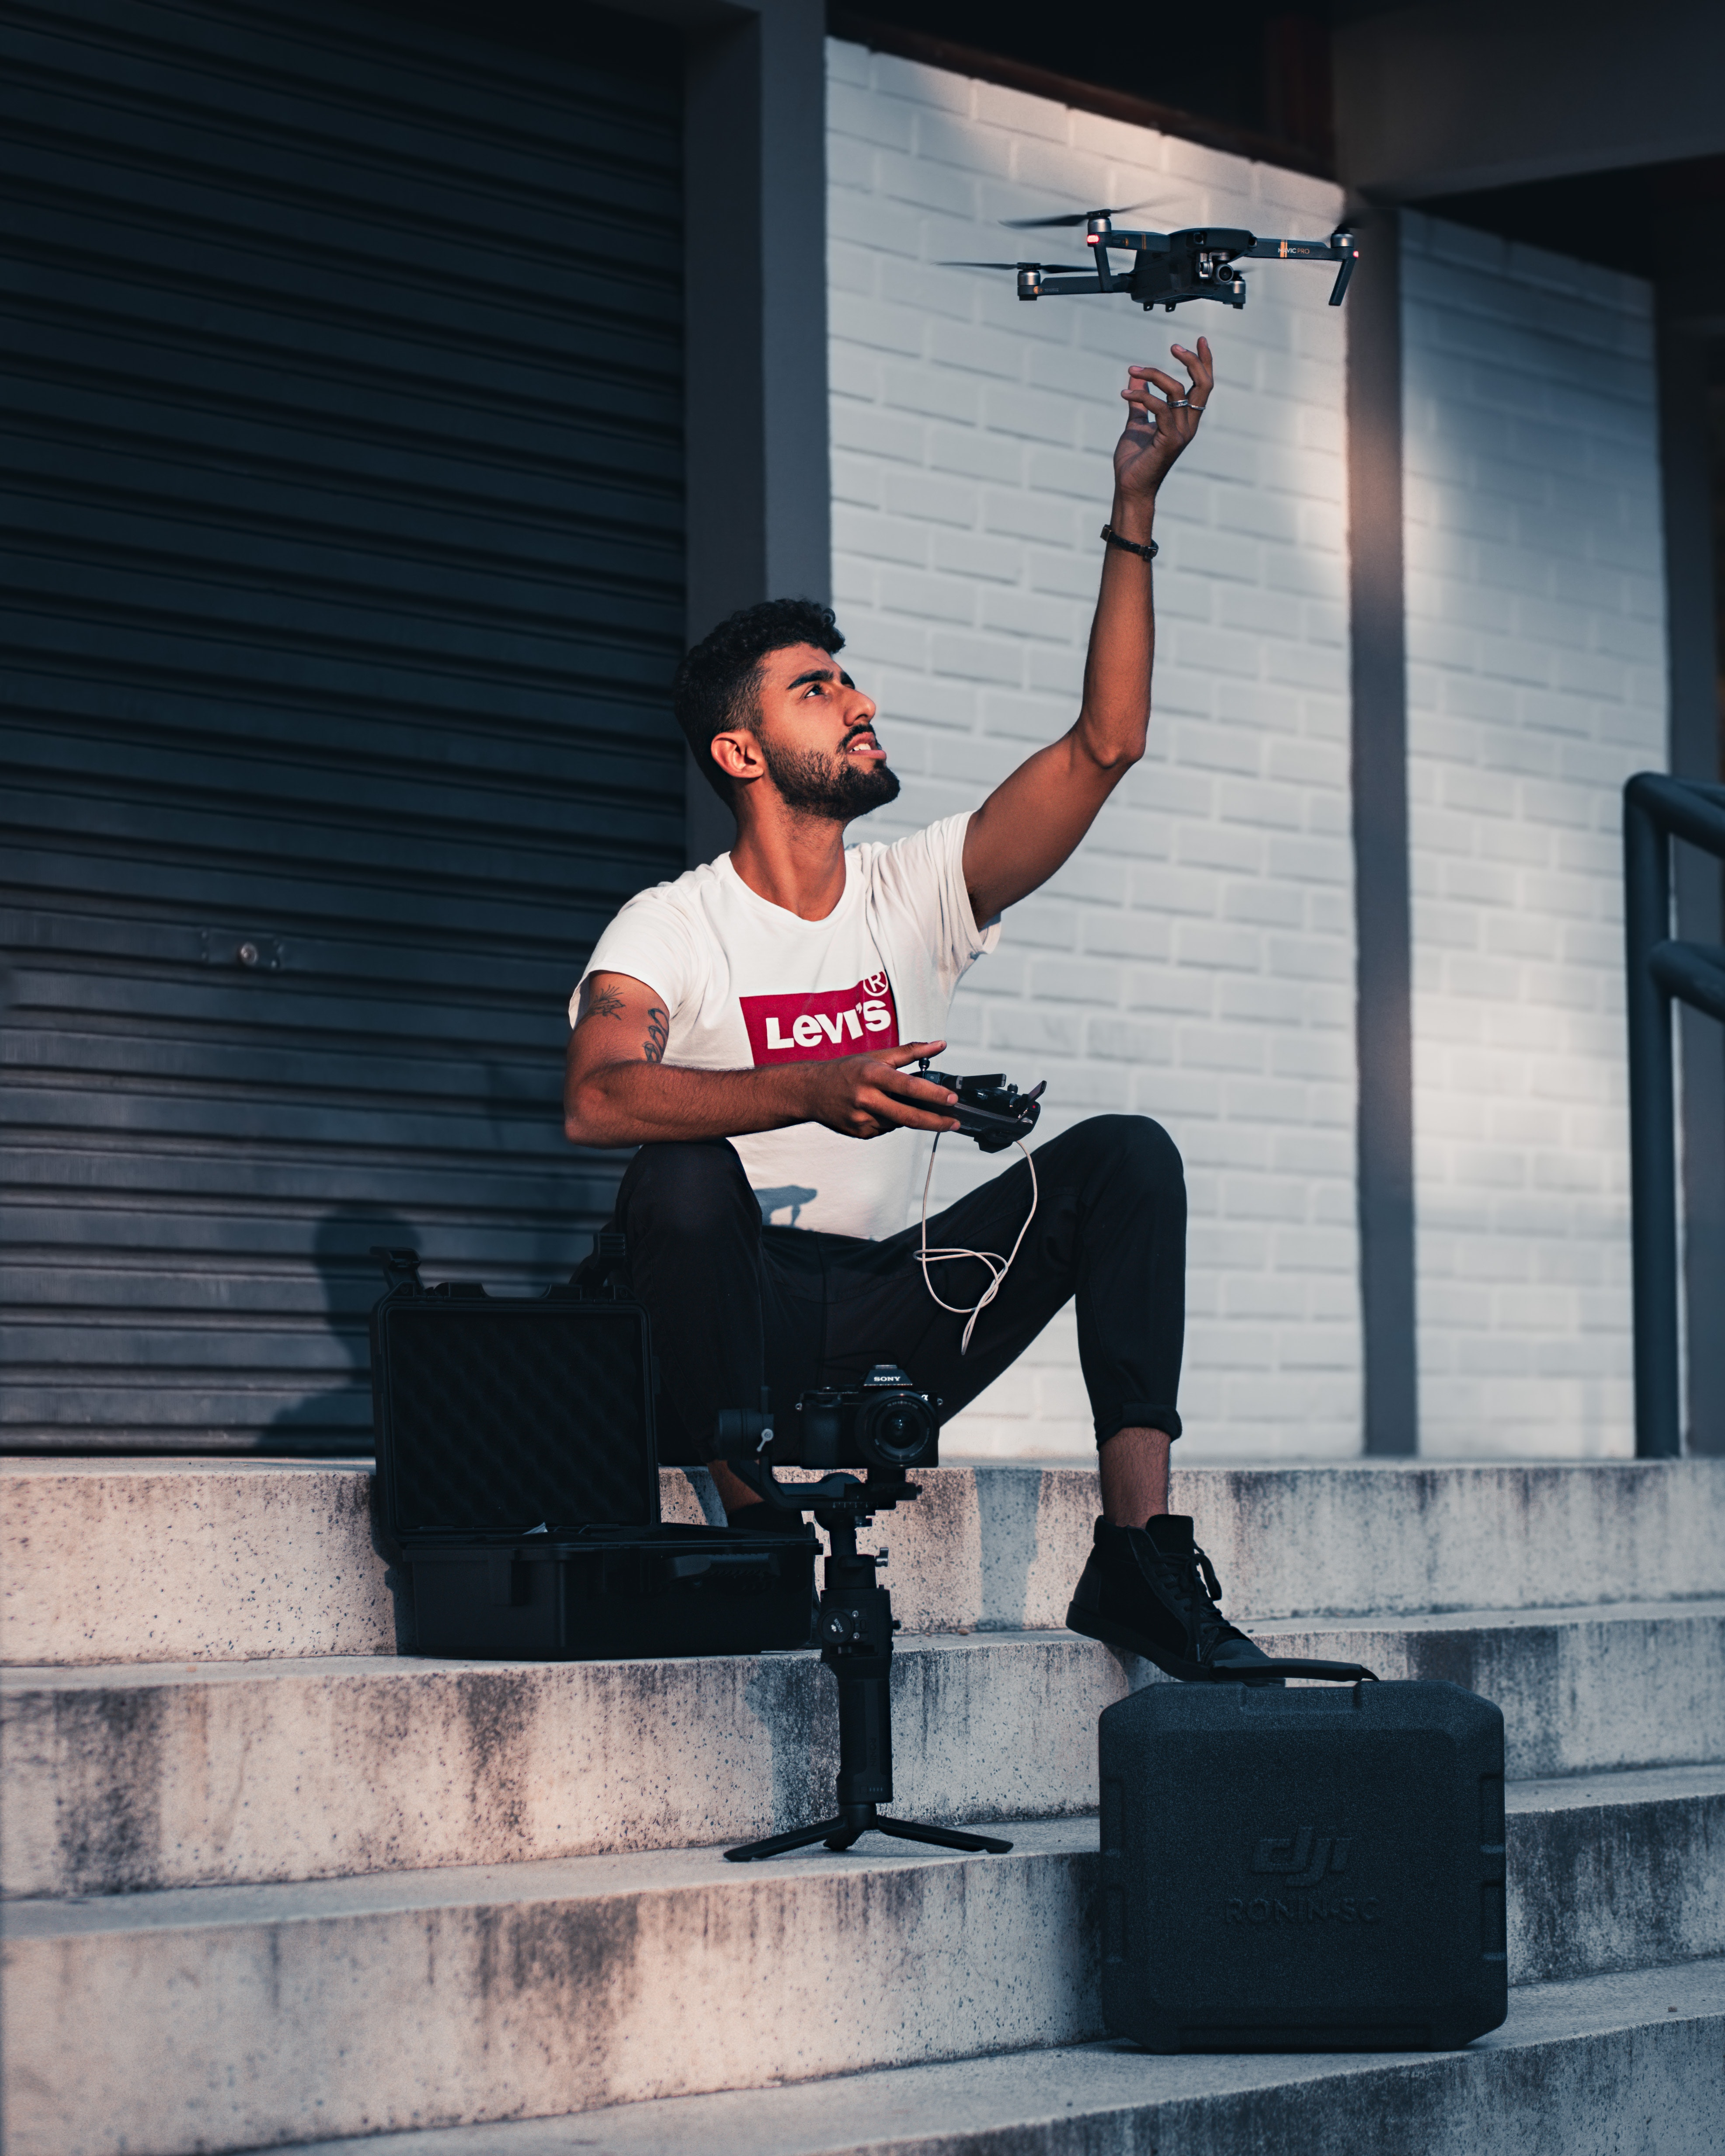drone: (924, 116, 1399, 341)
